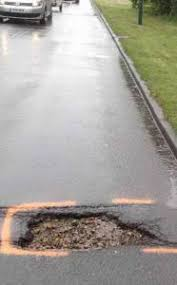pothole: (16, 202, 152, 254)
